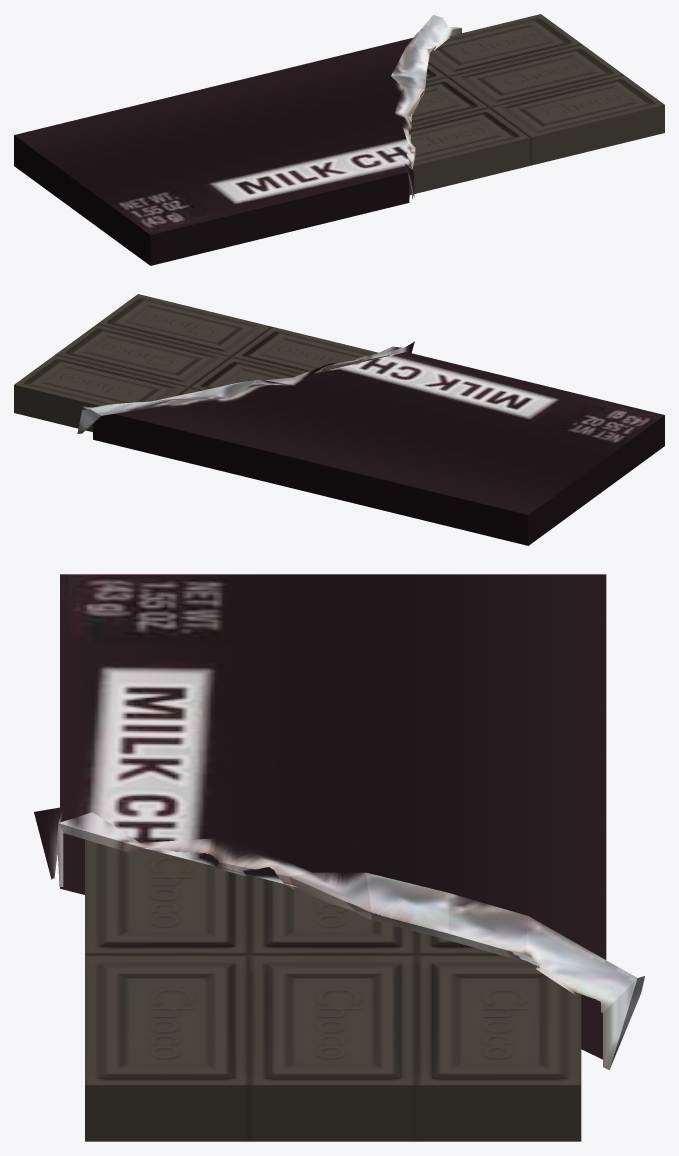
File: candy_04.fbx
3 views of the same model, one above another, from view 1: azimuth 30°, elevation 25°; view 2: azimuth 150°, elevation 25°; view 3: azimuth 270°, elevation 25° (orthographic). The views are drawn at different scales.
Parts seen in each view (by area): view 1: candy_04; view 2: candy_04; view 3: candy_04.
Boxes of the visible parts, x1=… form: candy_04: x1=14, y1=14, x2=664, y2=265; candy_04: x1=14, y1=294, x2=664, y2=545; candy_04: x1=34, y1=574, x2=644, y2=1141.
Size of the model in its own units: 1.94 by 0.1503 by 0.9851.
